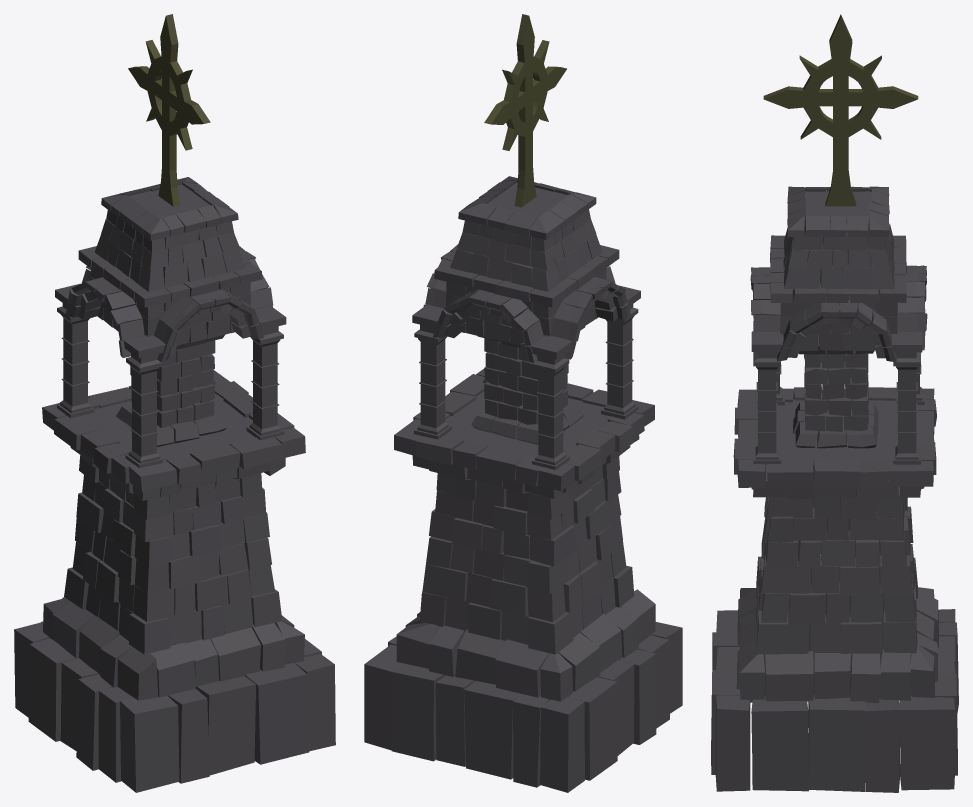
Rendered from cemetry_decoration.fbx.
The picture shows the model from 3 angles, left to right: view 1: azimuth 30°, elevation 25°; view 2: azimuth 150°, elevation 25°; view 3: azimuth 270°, elevation 25°; orthographic projection.
Visible parts, largest first — view 1: Cube.004; view 2: Cube.004; view 3: Cube.004.
Boxes of the visible parts, left/top/right/bottom form: Cube.004: left=14, top=14, right=335, bottom=792; Cube.004: left=364, top=14, right=682, bottom=792; Cube.004: left=711, top=14, right=958, bottom=792.
Size of the model in its own units: 651 by 2078 by 645.
